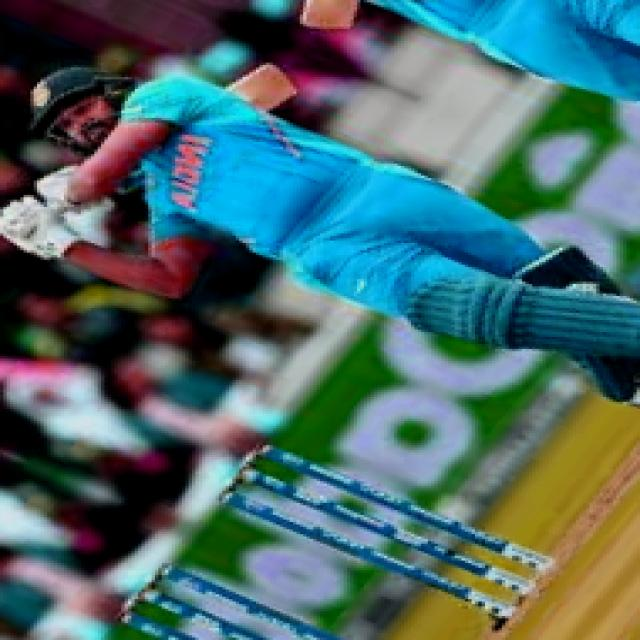toe: (246, 62, 305, 104)
